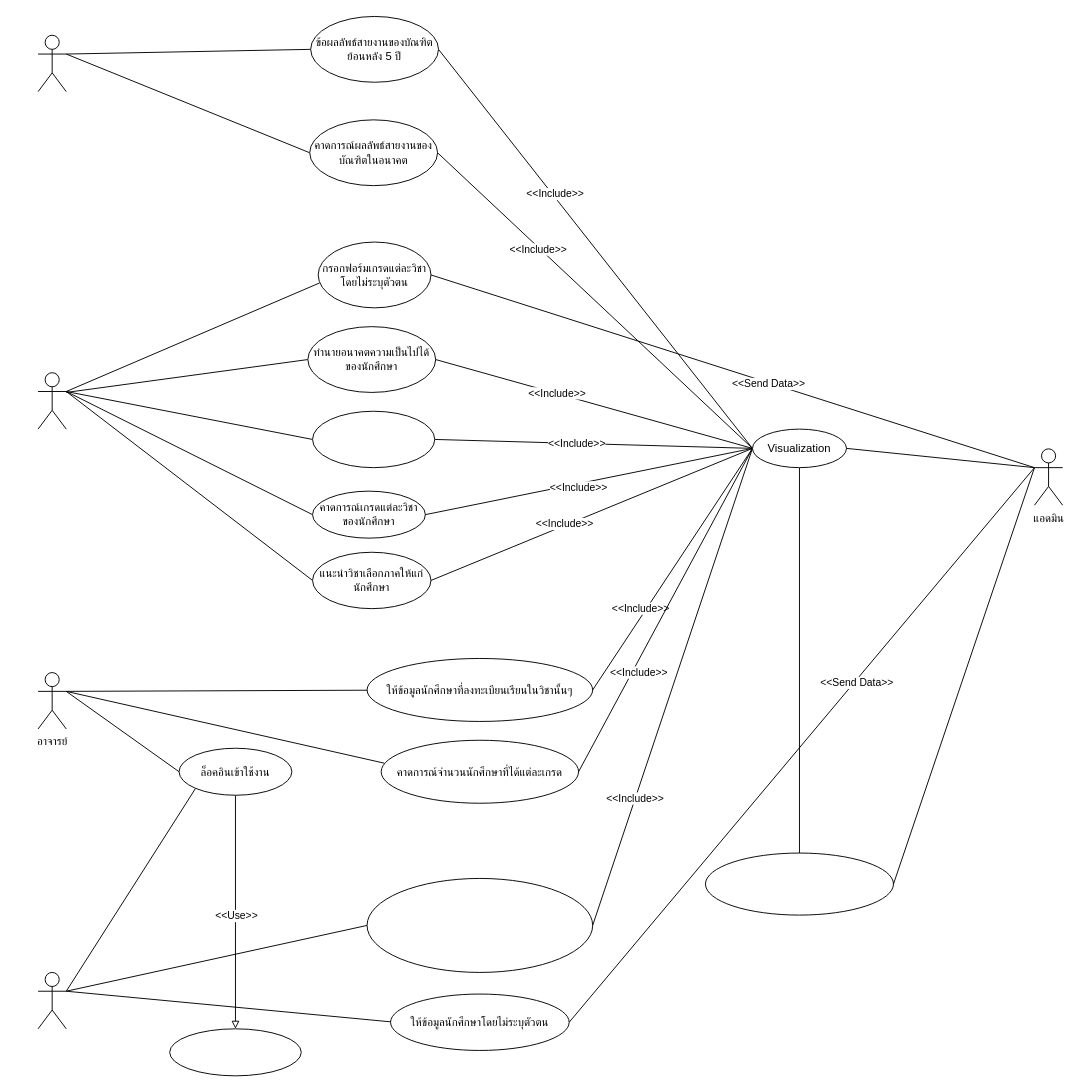
Image size: 1080x1092. Some labels were removed from this diagram. The shapes that lost their labels are listed below. From the top down, each one's box as (x1, y1, x2, y2) in pixels, then its label:
(37, 34, 66, 92): บุคคลทั่วไป
(37, 372, 66, 429): นักศึกษา
(312, 410, 435, 468): แสดงค่าความถนัดของนักศึกษา
(705, 852, 893, 915): ทำนายพยากรณ์ผลลัพธ์และคาดการณ์
(366, 877, 593, 972): คาดการณ์จำนวนนักศึกษาที่มีโอกาศเรียนไม่จบแล้วโอกาศที่นักศึกษาจะลาออก
(37, 971, 66, 1029): กรรมการหลักสูตร
(169, 1028, 301, 1076): ล็อคเอ้าท์ออกจากระบบ
